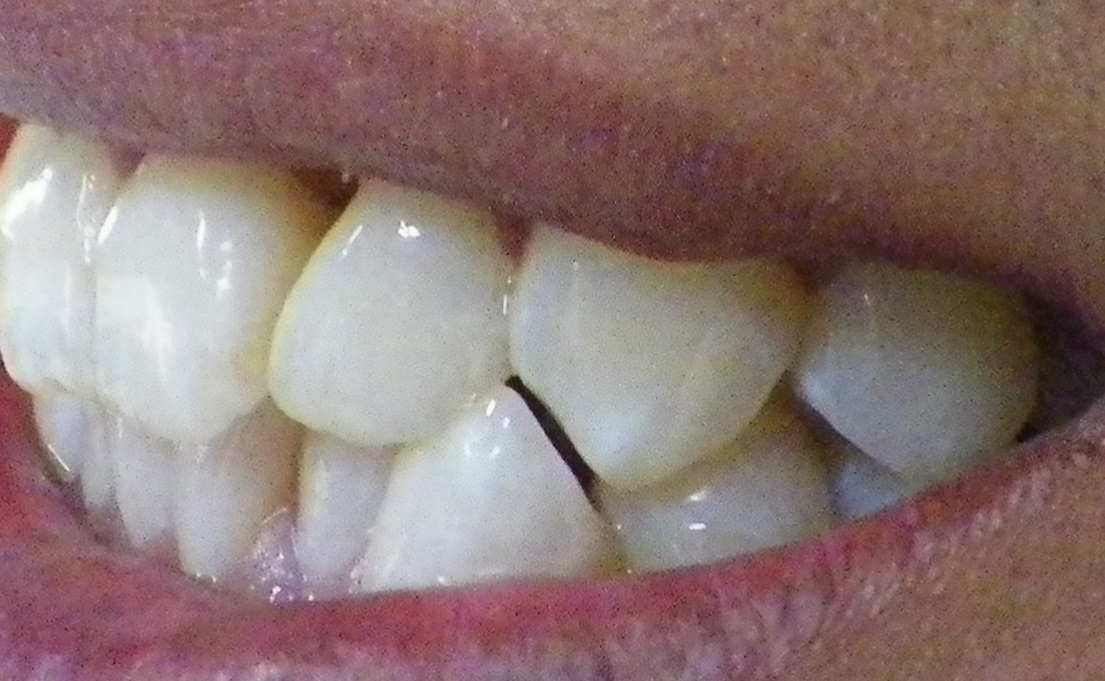boca: (3, 120, 1036, 587)
